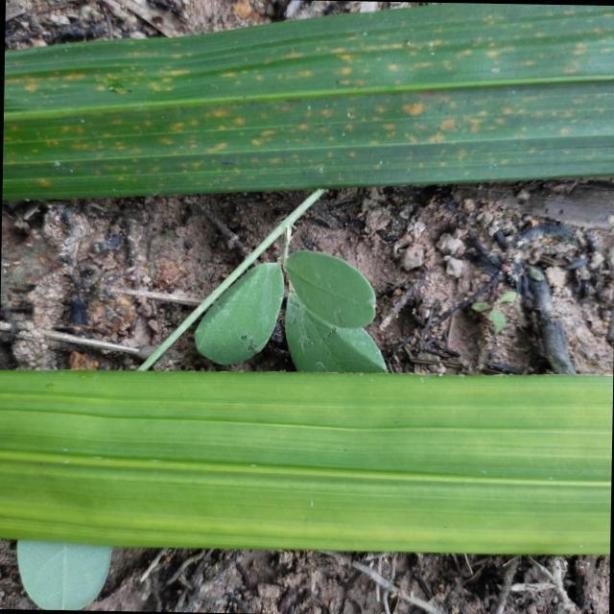nitrogen: (6, 361, 614, 555)
